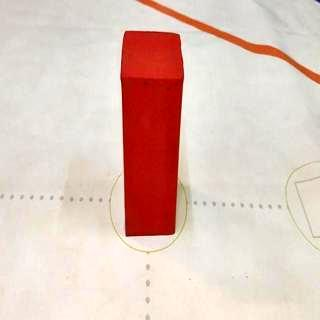redbox: (122, 30, 184, 235)
